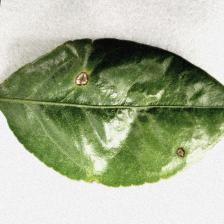canker: (58, 68, 196, 166)
